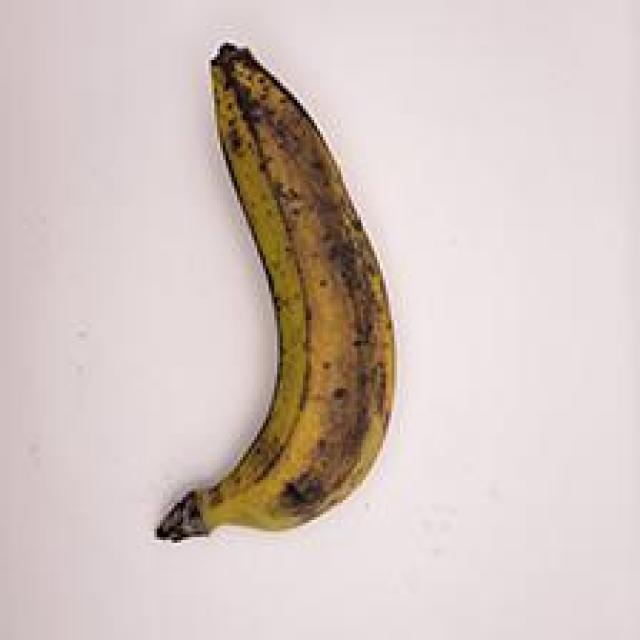Overripe: (121, 36, 415, 550)
